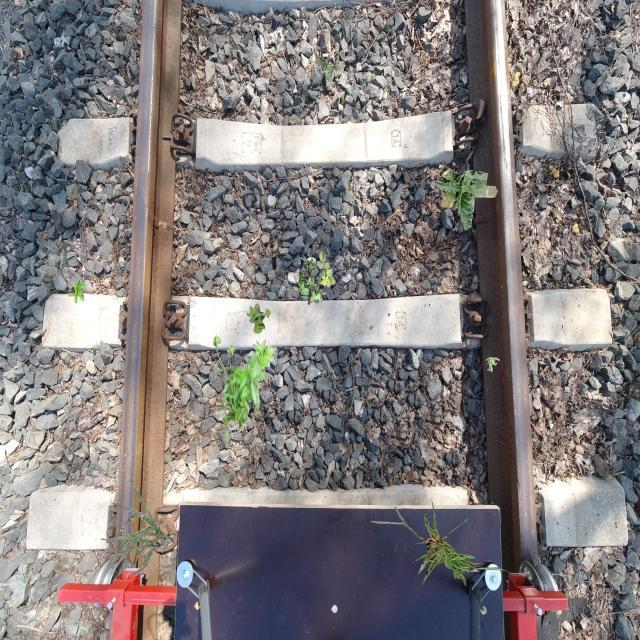Plant: (371, 498, 514, 588), (212, 334, 276, 442), (101, 480, 174, 574), (435, 170, 498, 232), (298, 250, 336, 305), (315, 52, 342, 82), (247, 304, 271, 334), (68, 280, 86, 304), (486, 357, 500, 372)
